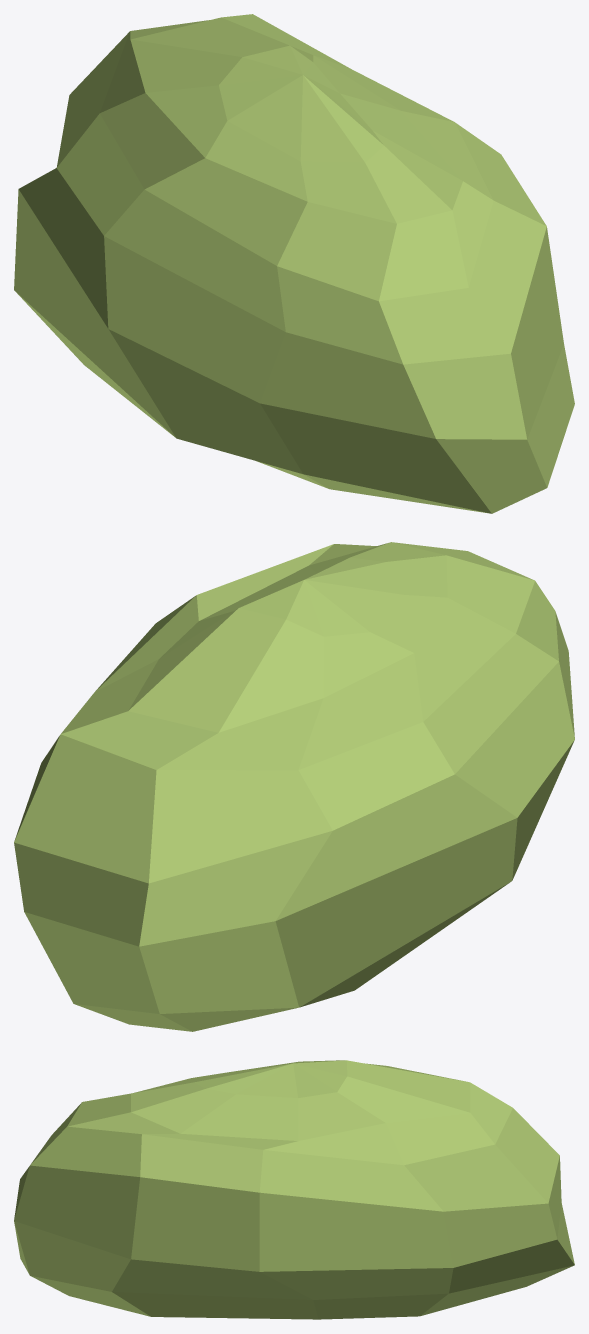
Rendered from garden_bush2.fbx.
3 renders of one model, top to bottom at view 1: azimuth 30°, elevation 25°; view 2: azimuth 150°, elevation 25°; view 3: azimuth 270°, elevation 25°, orthographic. The views are drawn at different scales.
Visible parts, largest first — view 1: pSphere1; view 2: pSphere1; view 3: pSphere1.
Boxes of the visible parts, <box> form: pSphere1: <box>14,14,574,513</box>; pSphere1: <box>14,542,574,1031</box>; pSphere1: <box>14,1060,574,1319</box>.
Size of the model in its own units: 2.15 by 1.7 by 3.91.
